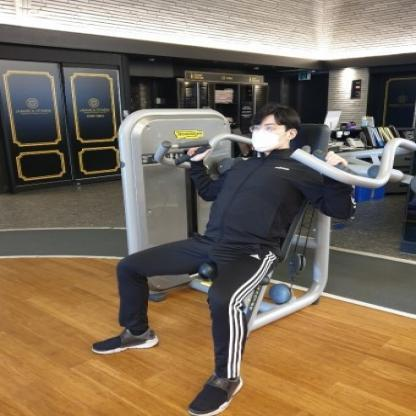shoulder press machine: (87, 101, 416, 416)
